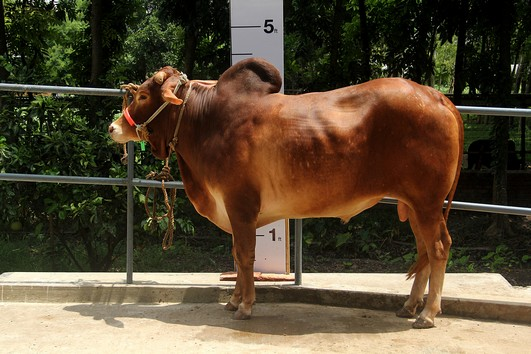cow: (104, 55, 470, 333)
